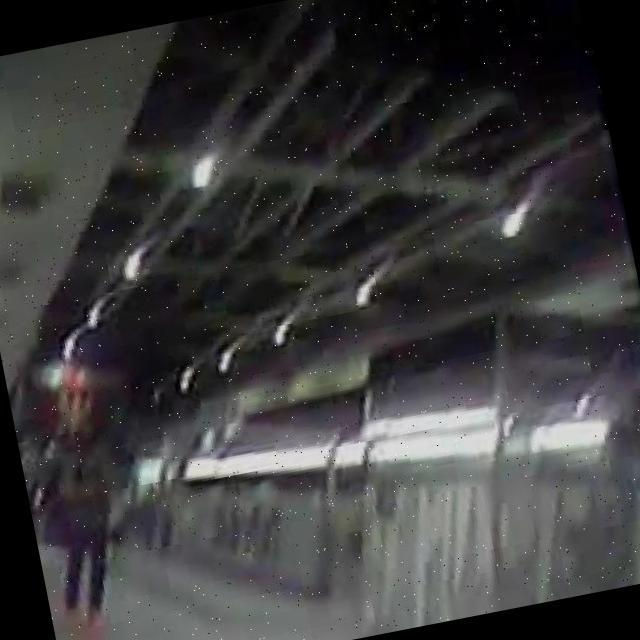person: (10, 384, 152, 624)
